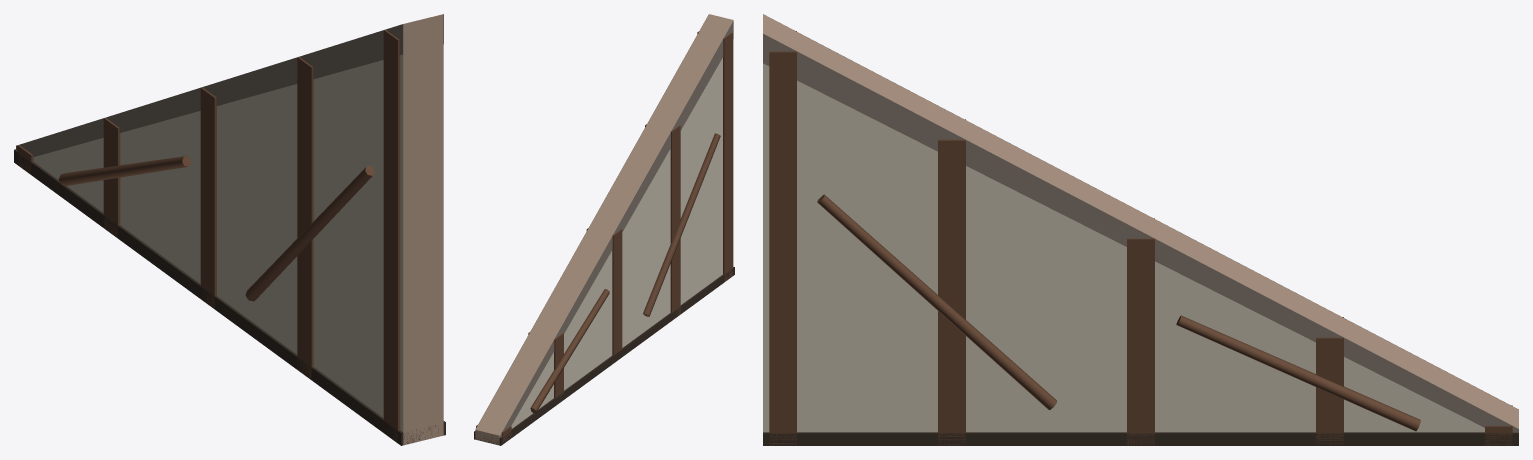
The model's file is Wall_GableFill_30_Right.glb.
3 renders of one model, left to right at view 1: azimuth 30°, elevation 25°; view 2: azimuth 150°, elevation 25°; view 3: azimuth 270°, elevation 25°, orthographic. The views are drawn at different scales.
Visible parts, largest first — view 1: _MeshInstance3D_3926, _MeshInstance3D_3932, _MeshInstance3D_3927, _MeshInstance3D_3931, _MeshInstance3D_3930, _MeshInstance3D_3935, _MeshInstance3D_3929, _MeshInstance3D_3933; view 2: _MeshInstance3D_3926, _MeshInstance3D_3932, _MeshInstance3D_3927, _MeshInstance3D_3931, _MeshInstance3D_3935, _MeshInstance3D_3930, _MeshInstance3D_3933, _MeshInstance3D_3929; view 3: _MeshInstance3D_3926, _MeshInstance3D_3932, _MeshInstance3D_3927, _MeshInstance3D_3931, _MeshInstance3D_3930, _MeshInstance3D_3936, _MeshInstance3D_3934, _MeshInstance3D_3929.
Boxes of the visible parts, x1,y1,x2,y2 form: _MeshInstance3D_3926: (16, 14, 443, 445); _MeshInstance3D_3932: (383, 29, 400, 442); _MeshInstance3D_3927: (14, 149, 445, 445); _MeshInstance3D_3931: (297, 57, 313, 379); _MeshInstance3D_3930: (200, 87, 216, 308); _MeshInstance3D_3935: (245, 165, 374, 301); _MeshInstance3D_3929: (103, 117, 120, 238); _MeshInstance3D_3933: (58, 155, 191, 185); _MeshInstance3D_3926: (475, 14, 733, 445); _MeshInstance3D_3932: (697, 31, 732, 281); _MeshInstance3D_3927: (474, 267, 734, 445); _MeshInstance3D_3931: (645, 124, 680, 317); _MeshInstance3D_3935: (643, 133, 720, 316); _MeshInstance3D_3930: (586, 228, 622, 355); _MeshInstance3D_3933: (530, 289, 609, 412); _MeshInstance3D_3929: (528, 332, 563, 402); _MeshInstance3D_3926: (763, 14, 1518, 432); _MeshInstance3D_3932: (769, 31, 796, 445); _MeshInstance3D_3927: (763, 432, 1518, 445); _MeshInstance3D_3931: (938, 119, 965, 445); _MeshInstance3D_3930: (1127, 218, 1154, 445); _MeshInstance3D_3936: (817, 194, 1056, 409); _MeshInstance3D_3934: (1176, 315, 1420, 431); _MeshInstance3D_3929: (1316, 317, 1343, 445).
Bounding box in the file's own units: 0.2607 × 1.8 × 3.
